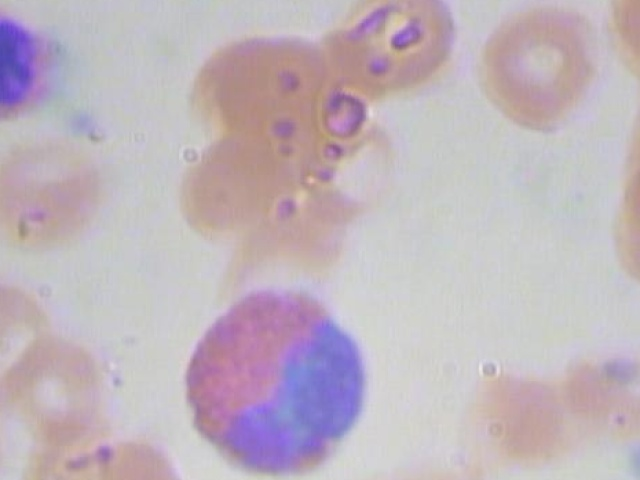Platelets: (593, 344, 640, 395), (59, 95, 111, 139), (618, 435, 640, 480)
RBC: (187, 4, 338, 151), (136, 121, 287, 268), (465, 0, 616, 144), (0, 116, 120, 264), (435, 356, 568, 480), (316, 0, 467, 102), (0, 314, 116, 445), (0, 427, 192, 480), (594, 152, 640, 299), (597, 0, 640, 112), (618, 51, 640, 198), (0, 362, 13, 480)
WBC: (172, 272, 379, 480), (0, 0, 71, 135)
